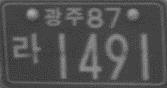1: (138, 31, 151, 82), (56, 31, 69, 80)
4: (78, 32, 103, 81)
7: (104, 6, 121, 29)
8: (86, 6, 104, 29)
9: (104, 31, 130, 80)
광주_O: (44, 6, 84, 28)
라: (11, 31, 42, 64)
